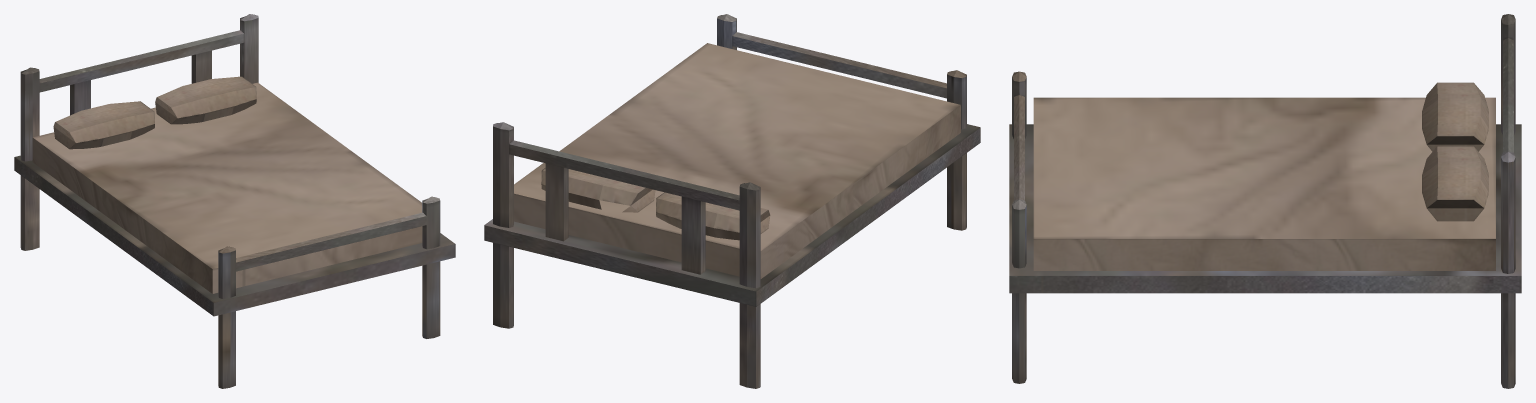
File: BedMarriage.fbx
The picture shows the model from 3 angles, left to right: view 1: azimuth 30°, elevation 25°; view 2: azimuth 150°, elevation 25°; view 3: azimuth 270°, elevation 25°; orthographic projection. The views are drawn at different scales.
Visible parts, largest first — view 1: Cube.004; view 2: Cube.004; view 3: Cube.004.
Boxes of the visible parts, left/top/right/bottom form: Cube.004: left=14, top=14, right=455, bottom=388; Cube.004: left=484, top=14, right=980, bottom=388; Cube.004: left=1009, top=14, right=1521, bottom=388.
Size of the model in its own units: 140 by 100 by 200.
1 material, 1 textured.
